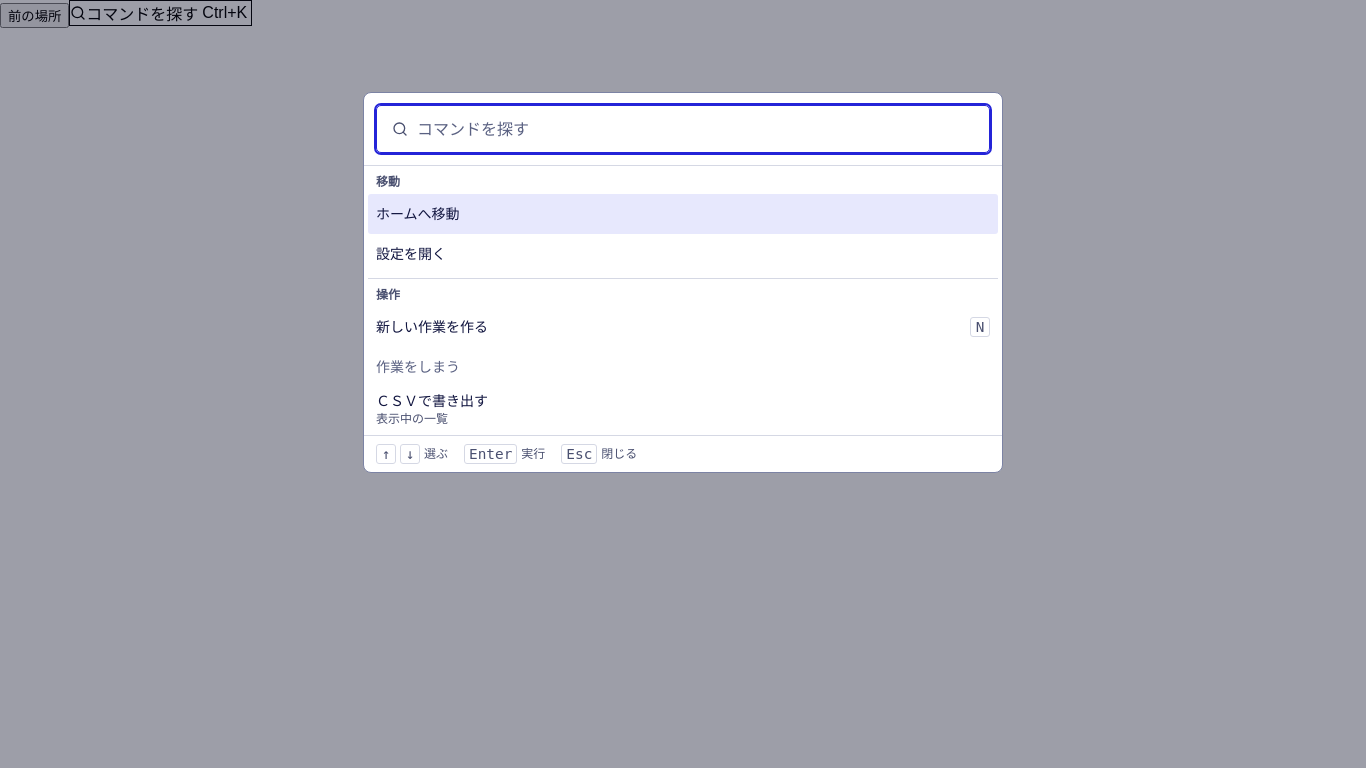
Test: CommandPalette › says so when nothing matches
The image size is (1366, 768).
In the dropdown labelled "コマンド": (683, 129) [376,105,990,153], type "ぞぞぞ"
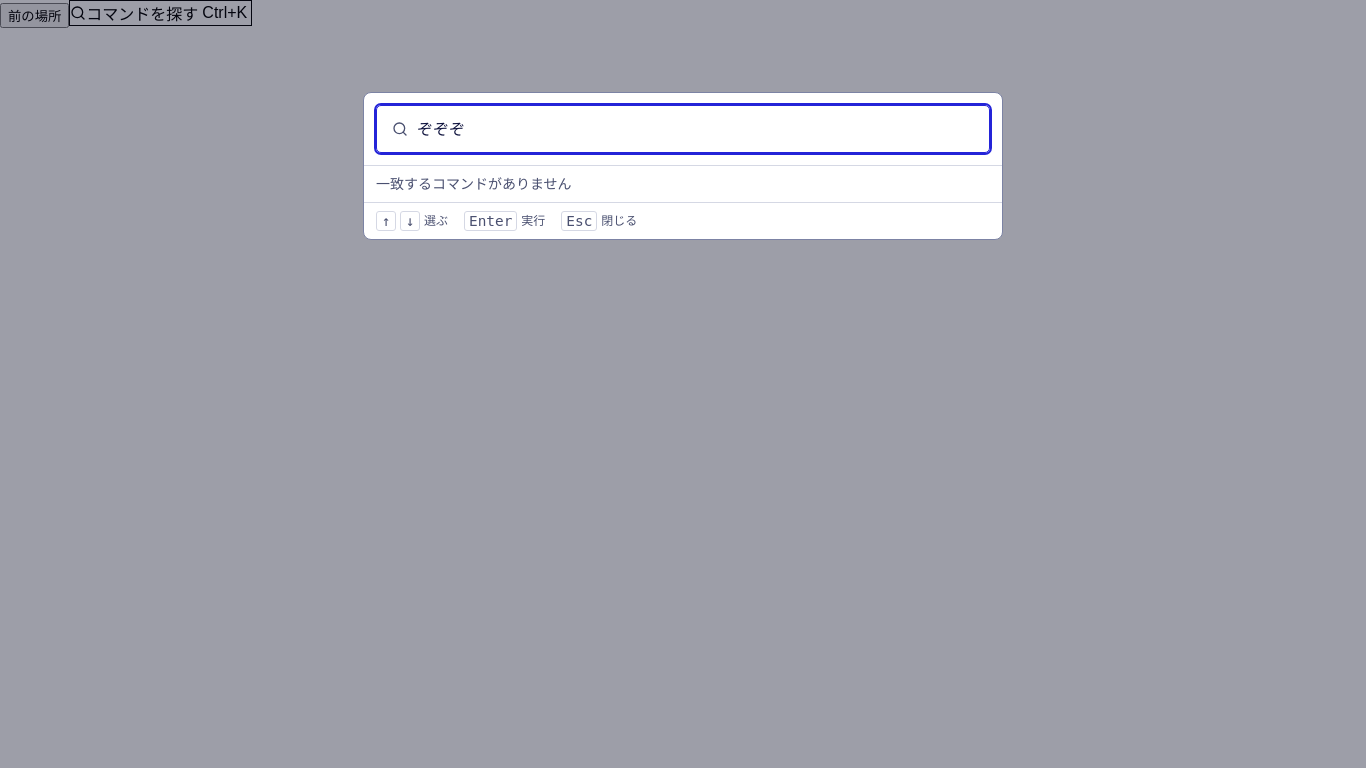
Check: no options are shown
Check: the list reads "一致するコマンドがありません", box [376,174,572,193]
